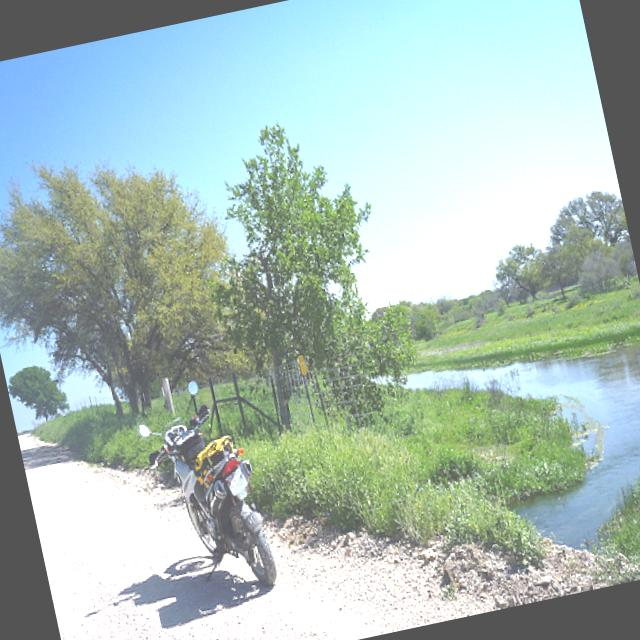Vehicle: (162, 397, 282, 602)
